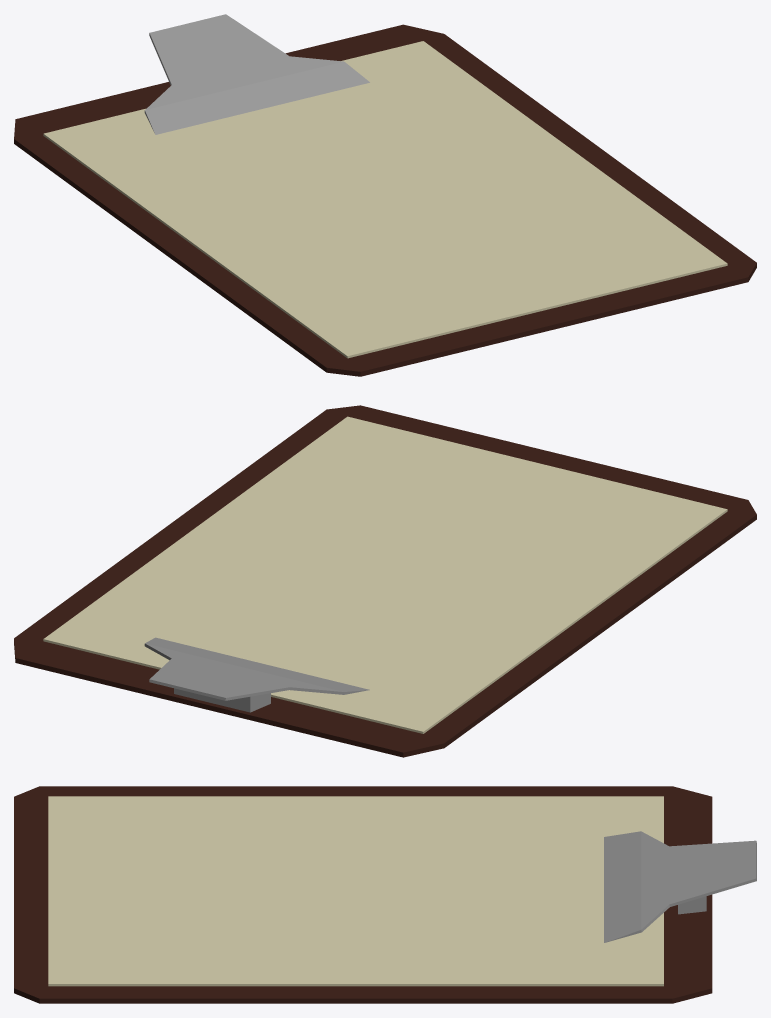
Rendered from Paper_Clipboard_mat.fbx.
3 views of the same model, one above another, from view 1: azimuth 30°, elevation 25°; view 2: azimuth 150°, elevation 25°; view 3: azimuth 270°, elevation 25° (orthographic).
Visible parts, largest first — view 1: Paper_Clipboard_mat; view 2: Paper_Clipboard_mat; view 3: Paper_Clipboard_mat.
Boxes of the visible parts, box(x1,y1,x2,y2) form: Paper_Clipboard_mat: box(14, 14, 756, 376); Paper_Clipboard_mat: box(14, 405, 756, 757); Paper_Clipboard_mat: box(14, 786, 756, 1003).
Size of the model in its own units: 18.21 by 1.52 by 26.9.
